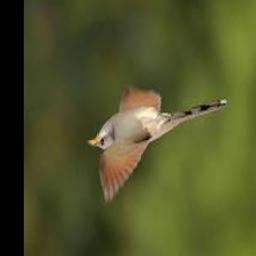Cuckoo: (88, 92, 228, 201)
